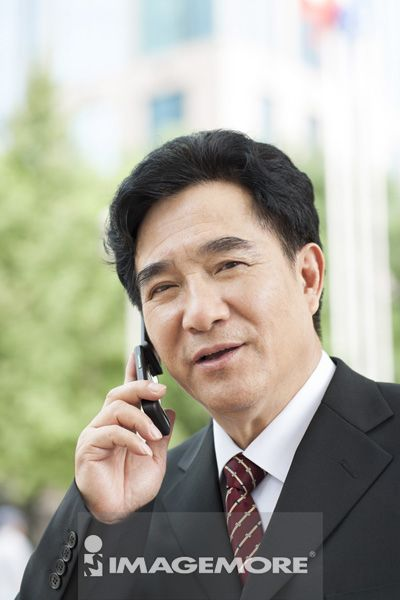talk: (68, 228, 287, 516)
